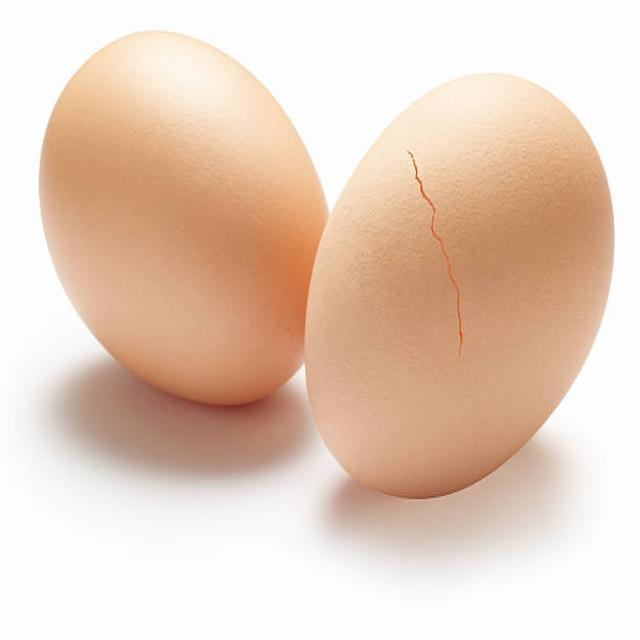Crack: (394, 132, 486, 388)
Egg: (304, 67, 625, 502), (30, 25, 332, 432)
